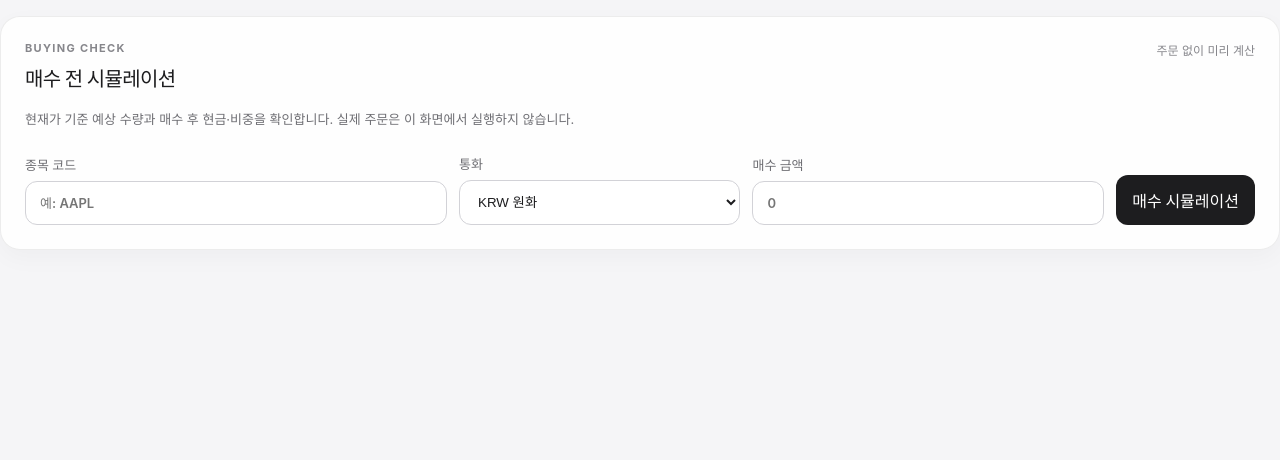
Scenario: InvestmentSimulationPanel › shows rule violations returned by the backend
Type "TSLL" into the field labelled "종목 코드".
click(236, 203); type("TSLL")  # box [25,181,447,225]
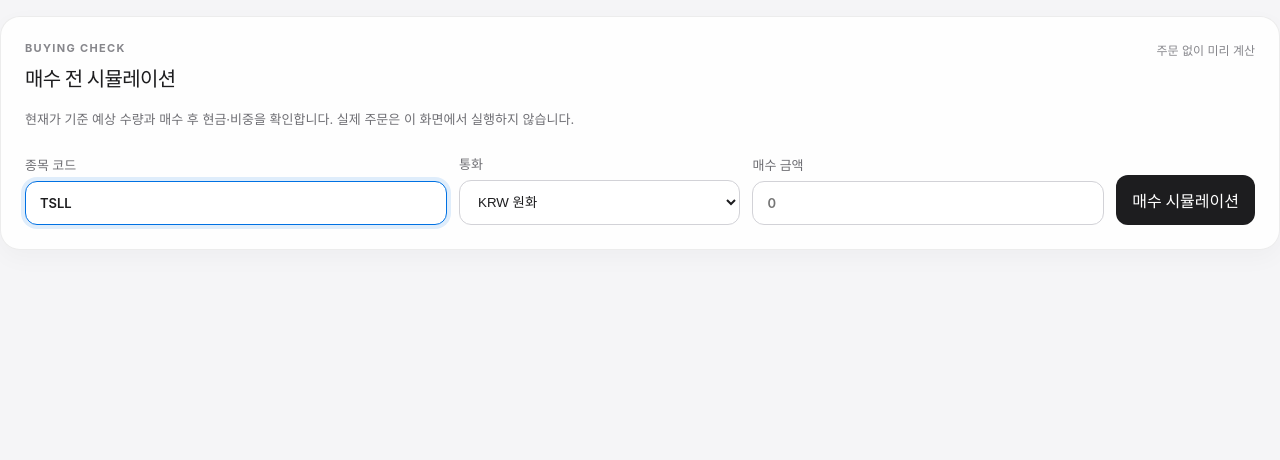
Type "1200" into the number field labelled "매수 금액".
click(928, 203); type("1200")  # box [752,181,1104,225]
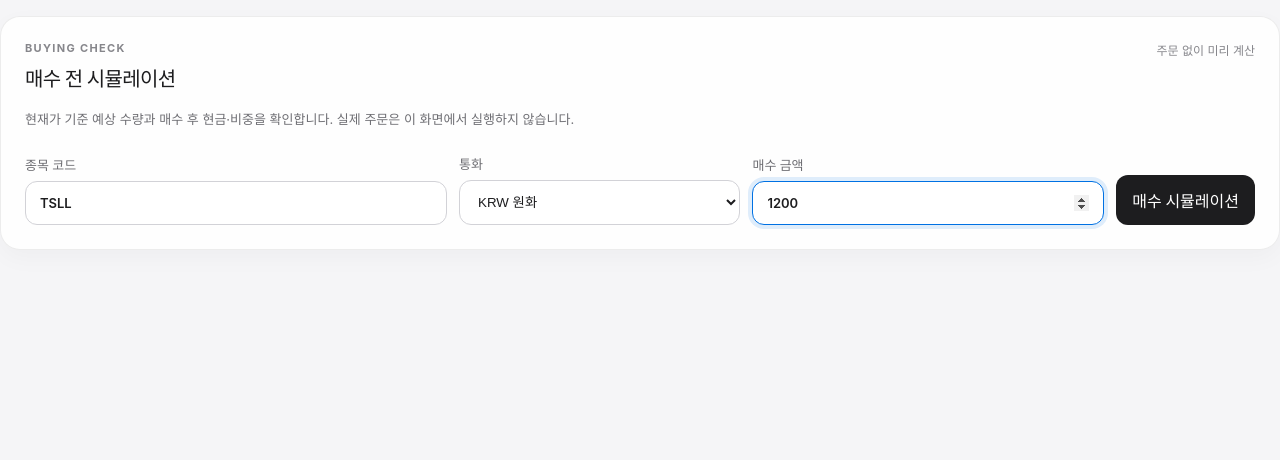
Click the button "매수 시뮬레이션".
click(1186, 200)  # box [1116,175,1255,225]
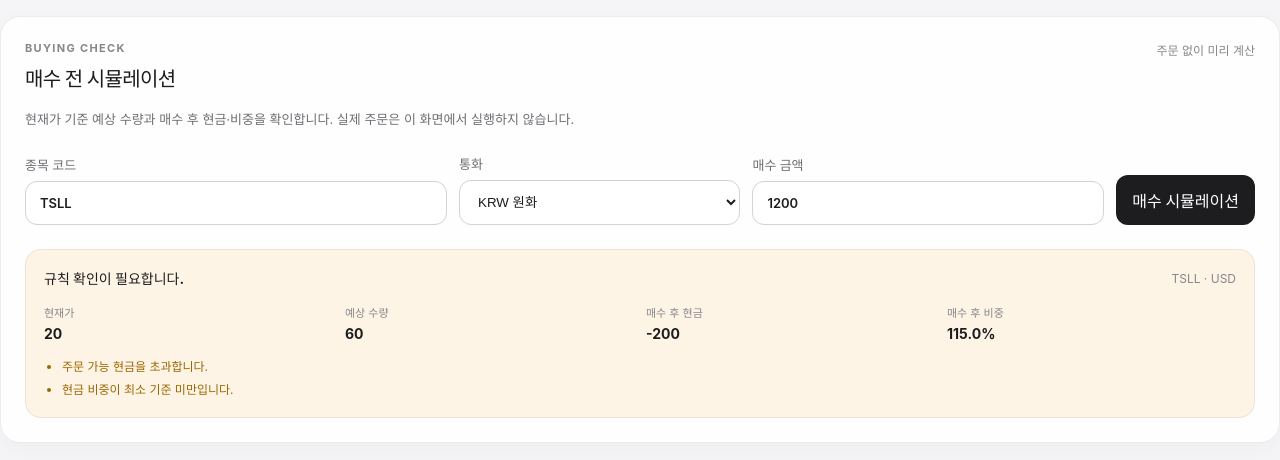
Expected: the text "규칙 확인이 필요합니다." is shown, [44,268,184,288]
Expected: the list item "주문 가능 현금을 초과합니다." is shown, [62,359,208,374]
